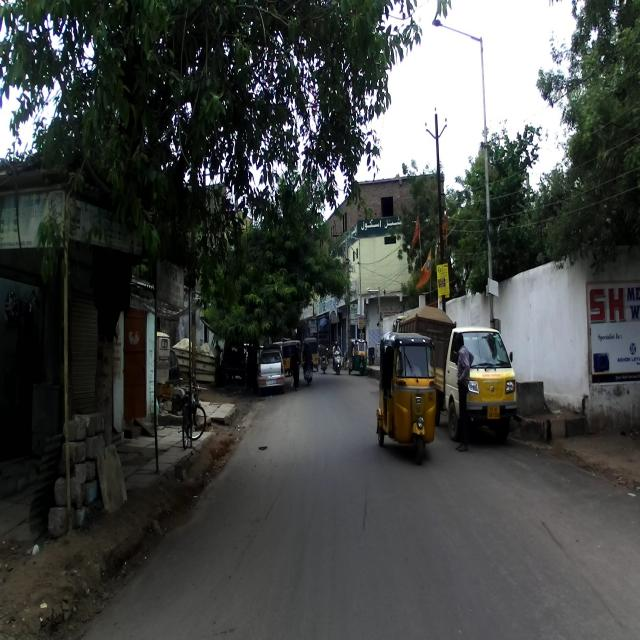autorickshaw: (376, 331, 436, 465)
car: (256, 348, 286, 398)
truck: (421, 314, 523, 456)
